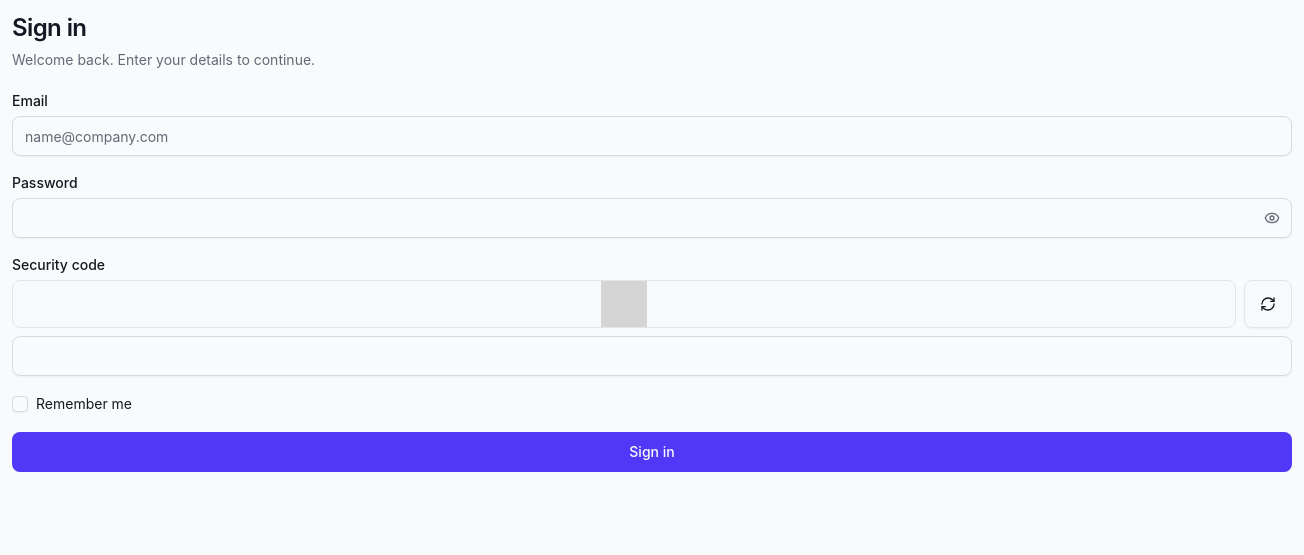
Test case: SignInForm › says when the security code is wrong, and offers a fresh captcha
Type "ada@example.com" into the field labelled "Email".
click(652, 136); type("ada@example.com")  # box [12,116,1292,156]
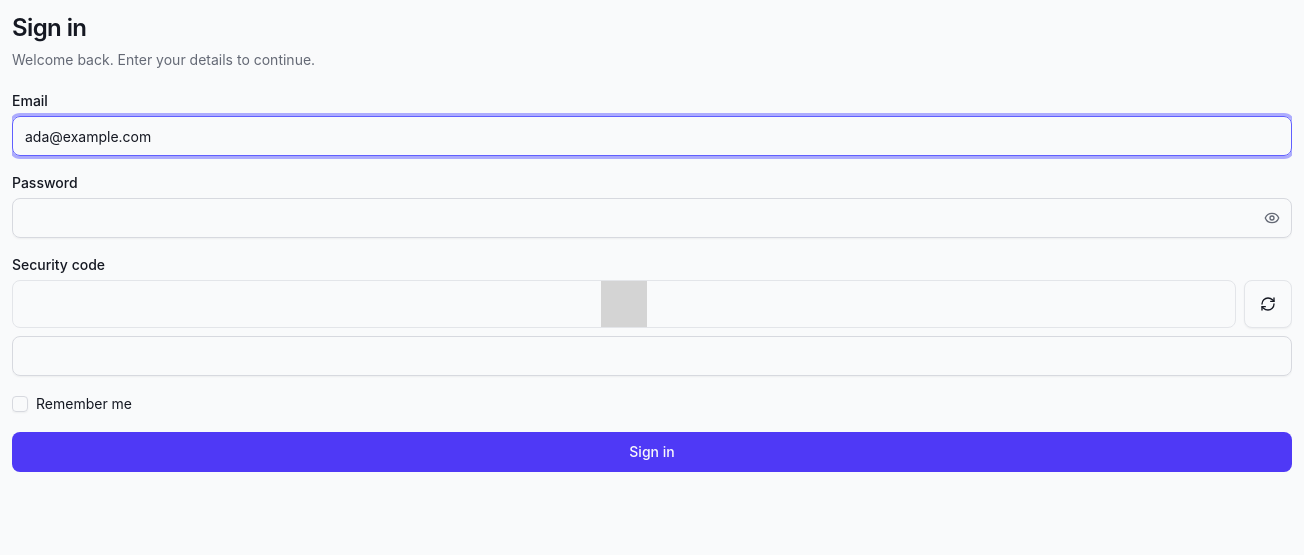
Type "password123" into the password field labelled "Password".
click(652, 218); type("password123")  # box [12,198,1292,238]
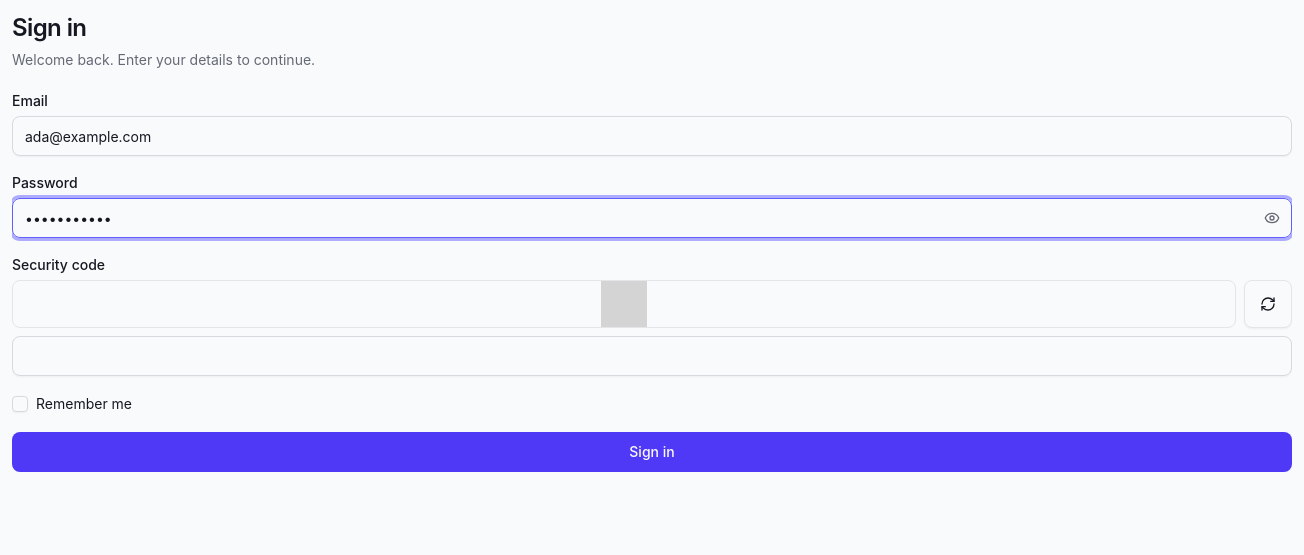
Type "QZWL" into the field labelled "Security code".
click(652, 356); type("QZWL")  # box [12,336,1292,376]
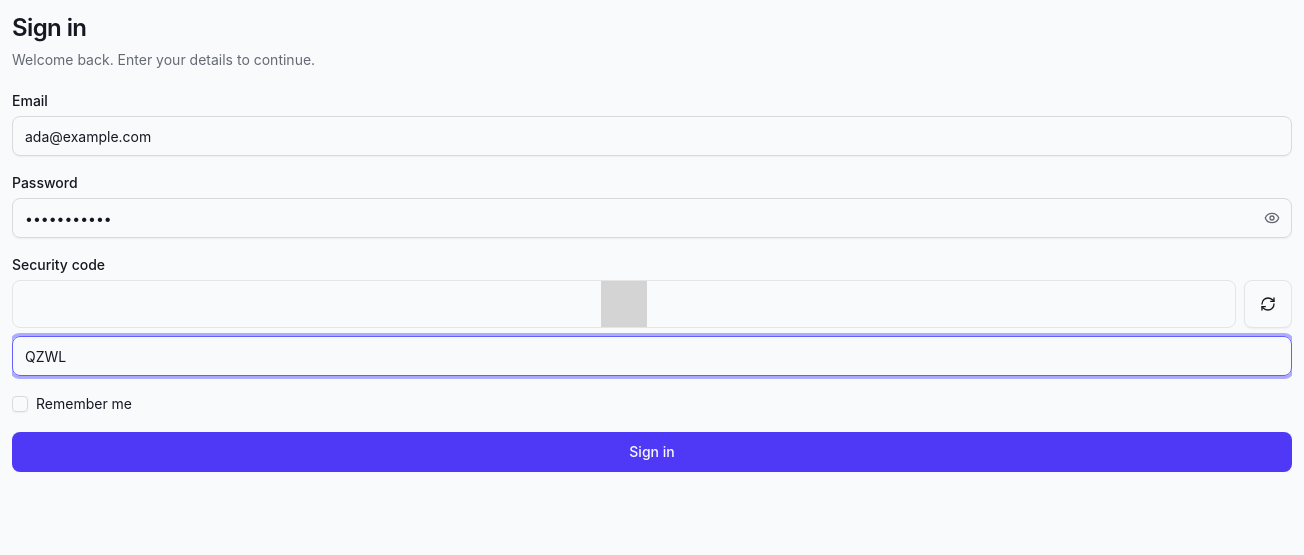
Click the button "Sign in".
click(652, 452)  # box [12,432,1292,472]
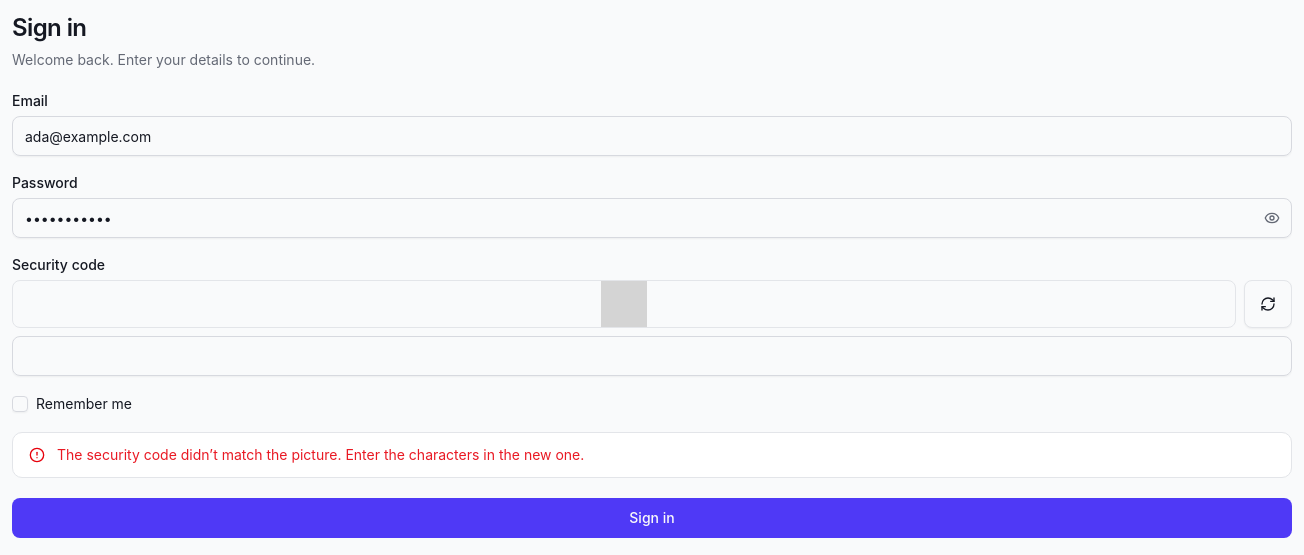
Now the message reads "The security code didn’t match the picture. Enter the characters in the new one.", box [57,446,584,463]
